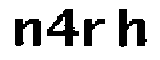4: (47, 3, 79, 48)
h: (113, 3, 150, 51)
n: (9, 15, 43, 51)
r: (80, 14, 104, 48)
